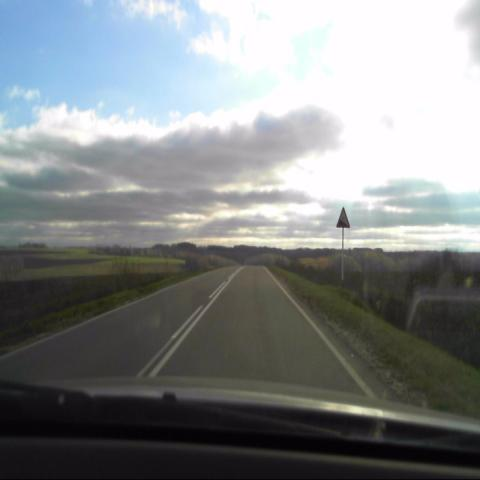1_13: (336, 207, 350, 230)
